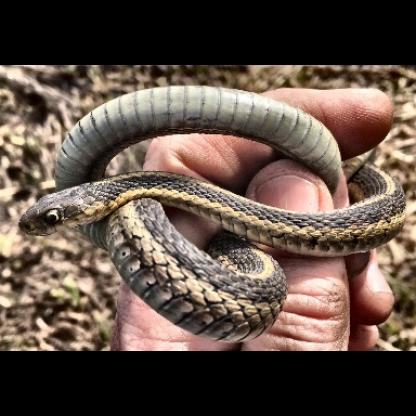Snake: (16, 84, 378, 343)
